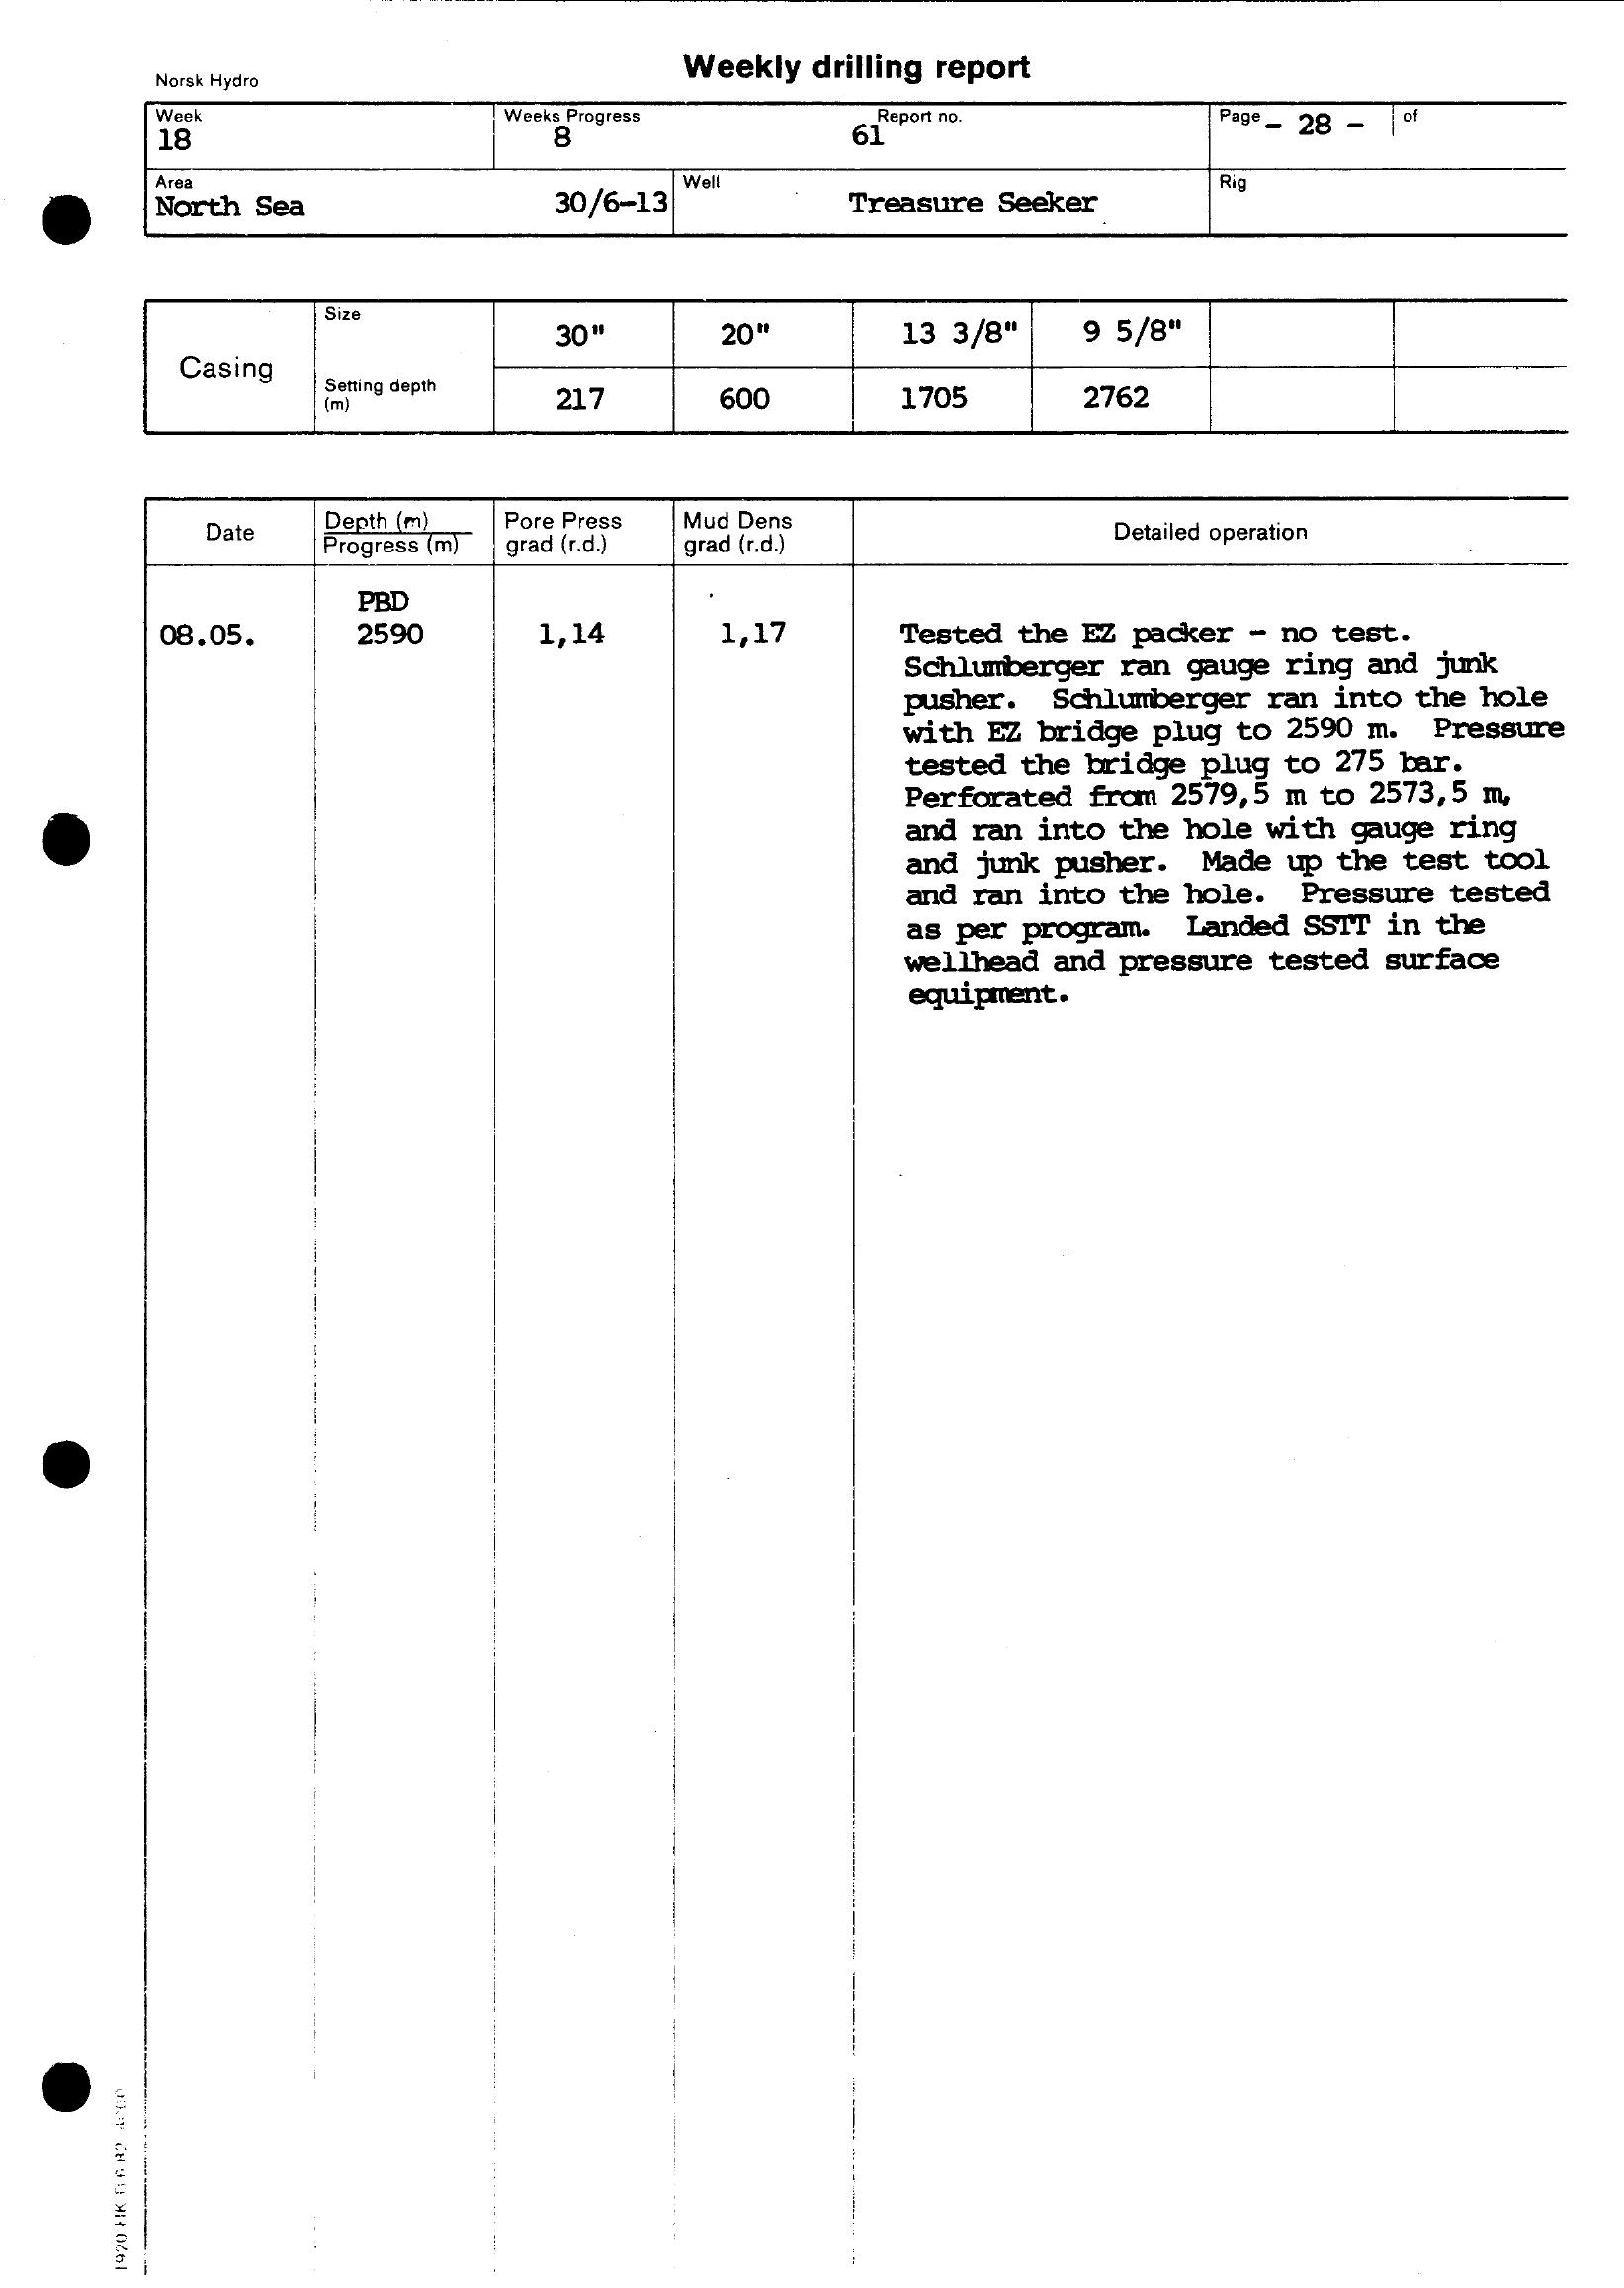graph: (139, 86, 1624, 1174)
text: (661, 42, 1044, 90)
